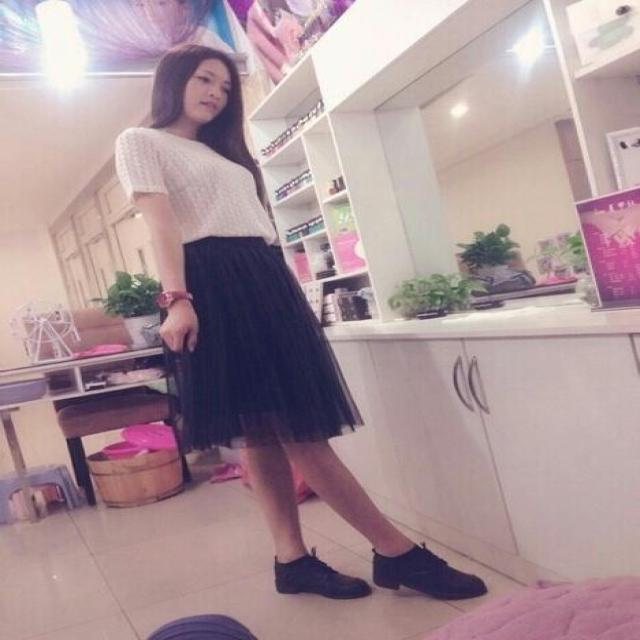short sleeve top: (116, 129, 274, 245)
skirt: (163, 240, 364, 450)
